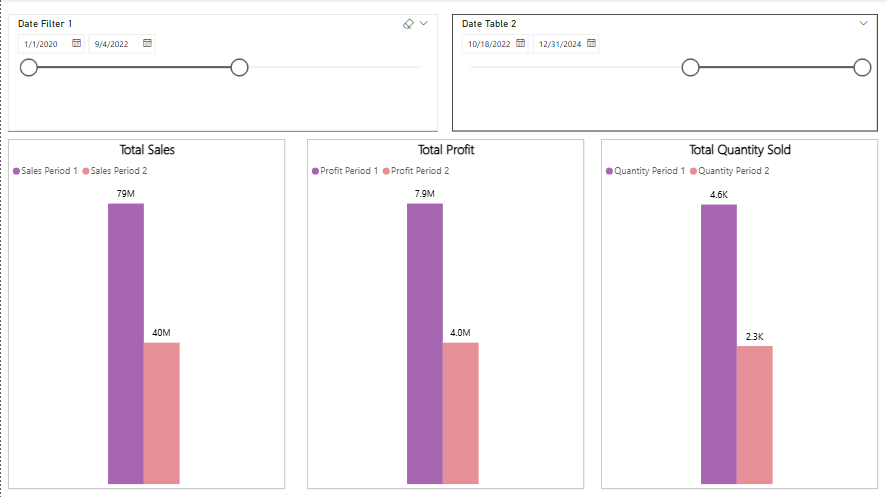

This screenshot's page, from the dashboard's own definition file:
{"tool":"powerbi","page":{"name":"Comparison Sales/Profit/Quantity","canvas":[1280,720],"ordinal":2},"visuals":[{"type":"slicer","fields":{"Values":["Date Table 1.Date"]},"box":[10,21.4,618.6,168.6],"z":0},{"type":"clusteredColumnChart","title":"Total Sales","fields":{"Y":["Sum(Fact Table.Net Sales)","Date Table 1.Sum of Net Sales"]},"box":[10,201.4,398.6,504.3],"z":1000},{"type":"slicer","fields":{"Values":["Date Table 2.Date"]},"box":[650,21.4,612.9,168.6],"z":2000},{"type":"clusteredColumnChart","title":"Total Quantity Sold","fields":{"Y":["Sum(Fact Table.Units Sold)","Measures Table 1.Total Quantity"]},"box":[864.3,201.4,398.6,504.3],"z":3000},{"type":"clusteredColumnChart","title":"Total Profit","fields":{"Y":["Sum(Fact Table.Profit)","Measures Table 1.Total Profit"]},"box":[440,201.4,398.6,504.3],"z":4000}]}

Visuals, with their boxes in screenshot pixels (x1, y1, x2, y2), scaled from the page's 1280x720 canvas onto the 887x497 screenshot:
slicer - Date Table 1.Date: 7/15/436/131
"Total Sales" clusteredColumnChart: 7/139/283/487
slicer - Date Table 2.Date: 450/15/875/131
"Total Quantity Sold" clusteredColumnChart: 599/139/875/487
"Total Profit" clusteredColumnChart: 305/139/581/487
